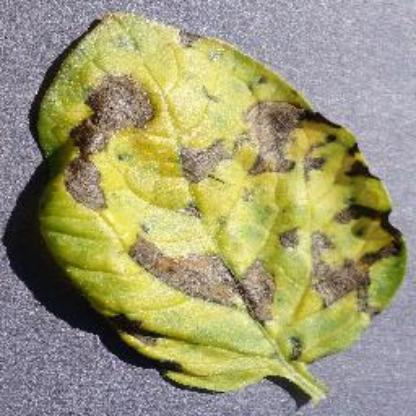Early-Blight: (31, 7, 402, 405)
